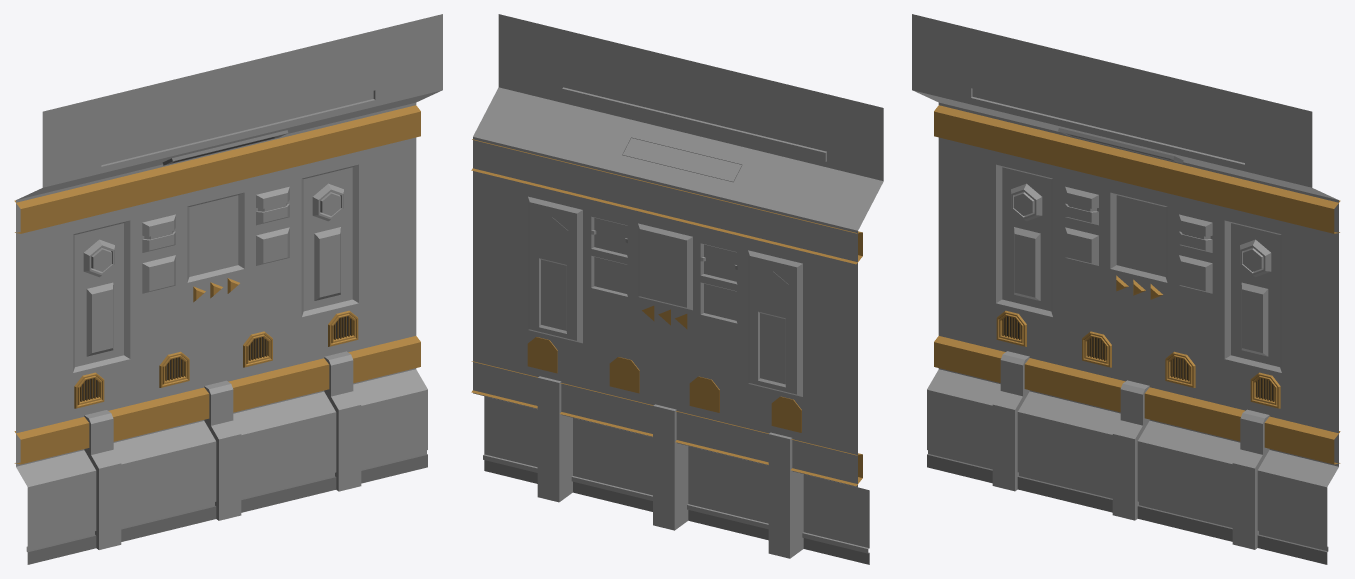
The model's file is Wall_3.fbx.
3 views of the same model, side by side, from view 1: azimuth 30°, elevation 25°; view 2: azimuth 150°, elevation 25°; view 3: azimuth 330°, elevation 25° (orthographic). The views are drawn at different scales.
Visible parts, largest first — view 1: Wall_3; view 2: Wall_3; view 3: Wall_3.
Boxes of the visible parts, <box> form: Wall_3: <box>14,14,442,564</box>; Wall_3: <box>471,14,883,564</box>; Wall_3: <box>912,14,1340,564</box>.
Size of the model in its own units: 400 by 443 by 52.3.
